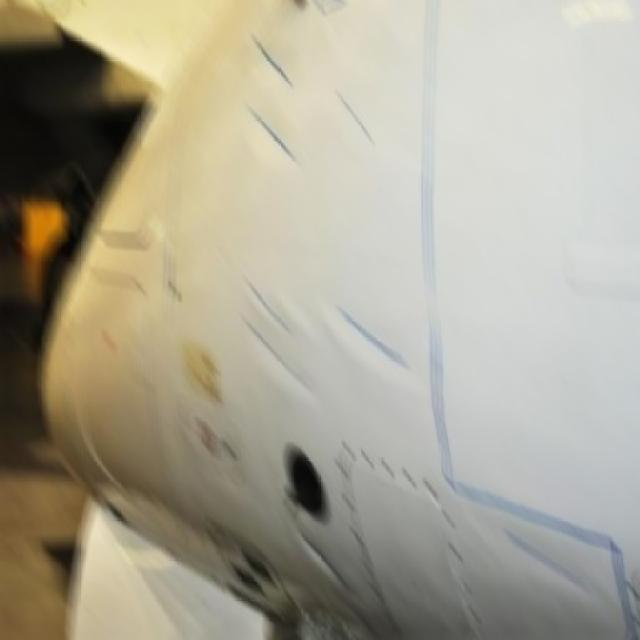dent: (242, 269, 303, 389), (340, 297, 414, 371), (506, 529, 592, 592), (290, 524, 350, 590), (250, 98, 298, 167), (252, 29, 297, 92)
